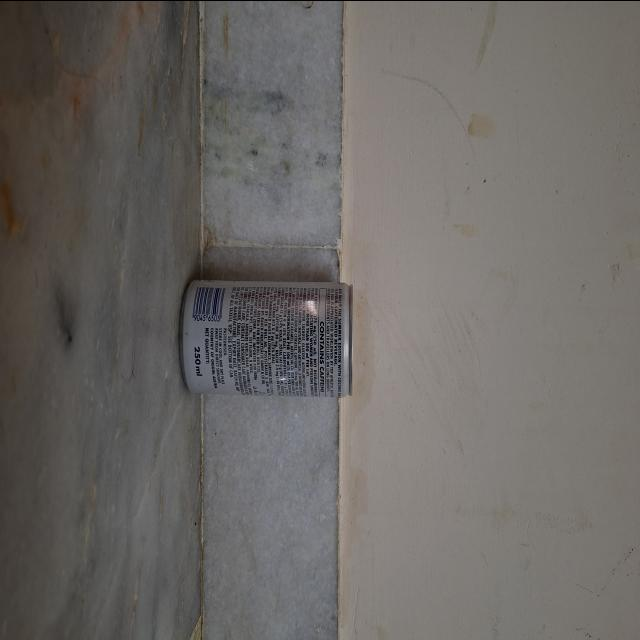Redbull Summer Edition: (174, 248, 366, 418)
